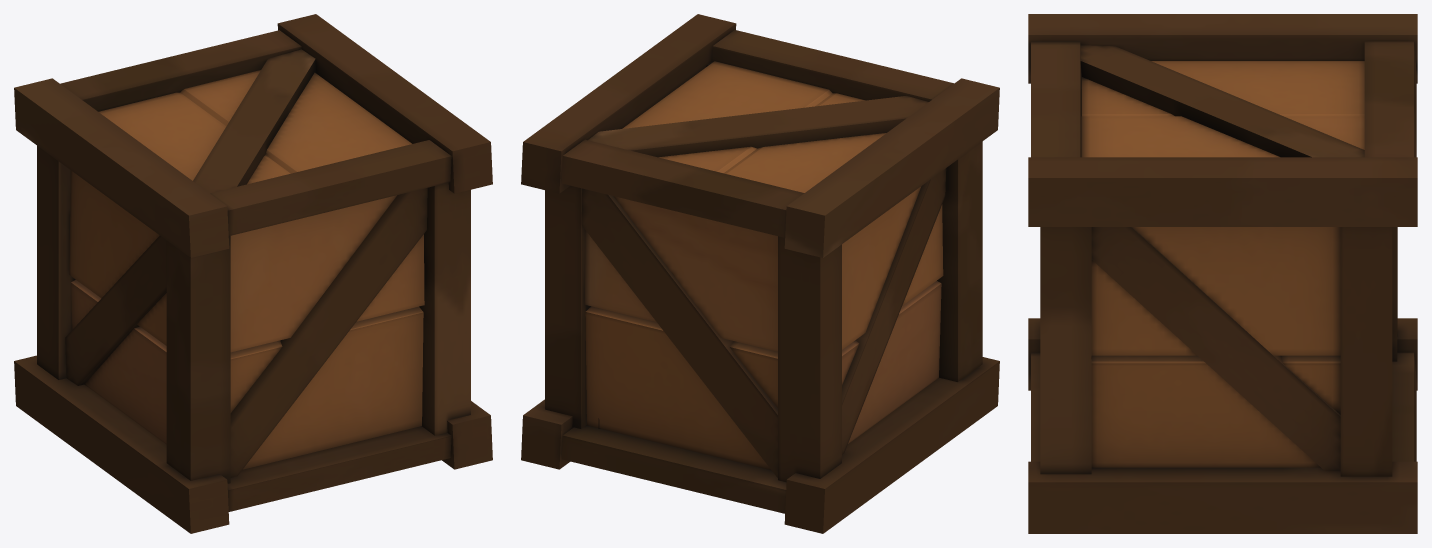
File: CaissePetiteA.FBX
3 views of the same model, side by side, from view 1: azimuth 30°, elevation 25°; view 2: azimuth 150°, elevation 25°; view 3: azimuth 270°, elevation 25° (orthographic). The views are drawn at different scales.
Visible parts, largest first — view 1: Caisse_Petite; view 2: Caisse_Petite; view 3: Caisse_Petite.
Boxes of the visible parts, box(x1,y1,x2,y2) form: Caisse_Petite: box(14, 14, 492, 533); Caisse_Petite: box(521, 14, 999, 533); Caisse_Petite: box(1028, 14, 1417, 533).
Bounding box in the file's own units: 1.98 × 1.98 × 1.97.
